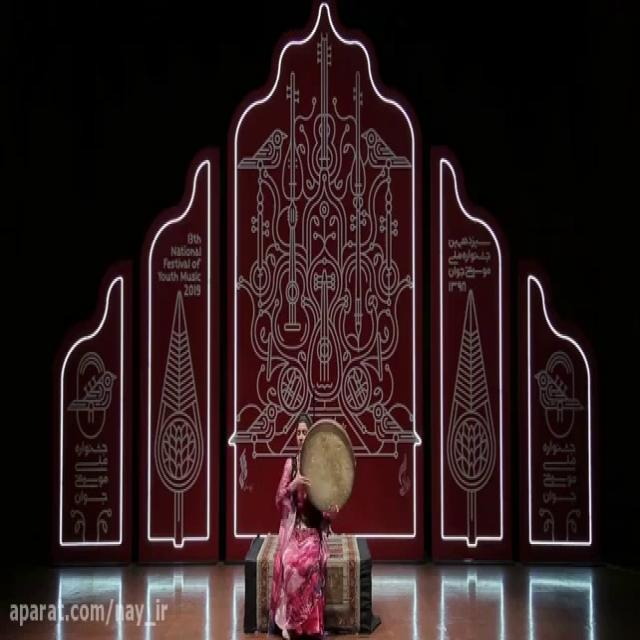Daf: (300, 417, 355, 517)
